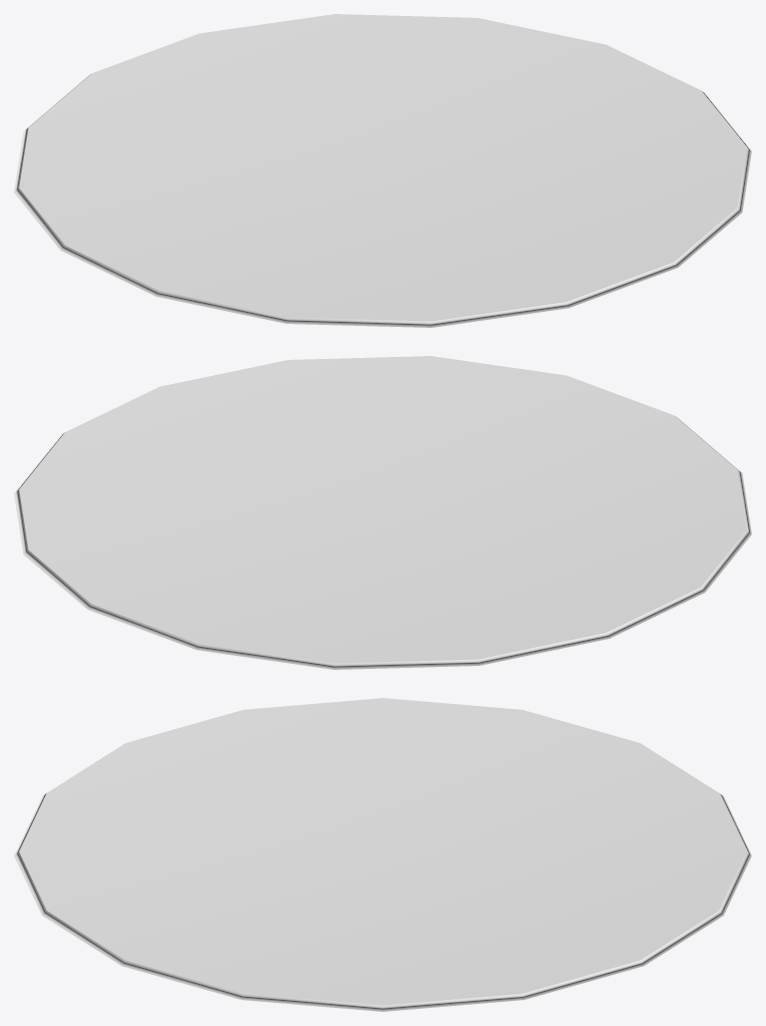
The model's file is plateRegular.fbx.
3 renders of one model, top to bottom at view 1: azimuth 30°, elevation 25°; view 2: azimuth 150°, elevation 25°; view 3: azimuth 270°, elevation 25°, orthographic.
Parts seen in each view (by area): view 1: platerRegular; view 2: platerRegular; view 3: platerRegular.
Part boxes in pixels (left/top/right/bottom): platerRegular: left=14, top=14, right=751, bottom=327; platerRegular: left=14, top=356, right=751, bottom=669; platerRegular: left=14, top=698, right=751, bottom=1011.
Bounding box in the file's own units: 0.3777 × 0.0138 × 0.3777.
Materials: 1 (1 with a texture image).
